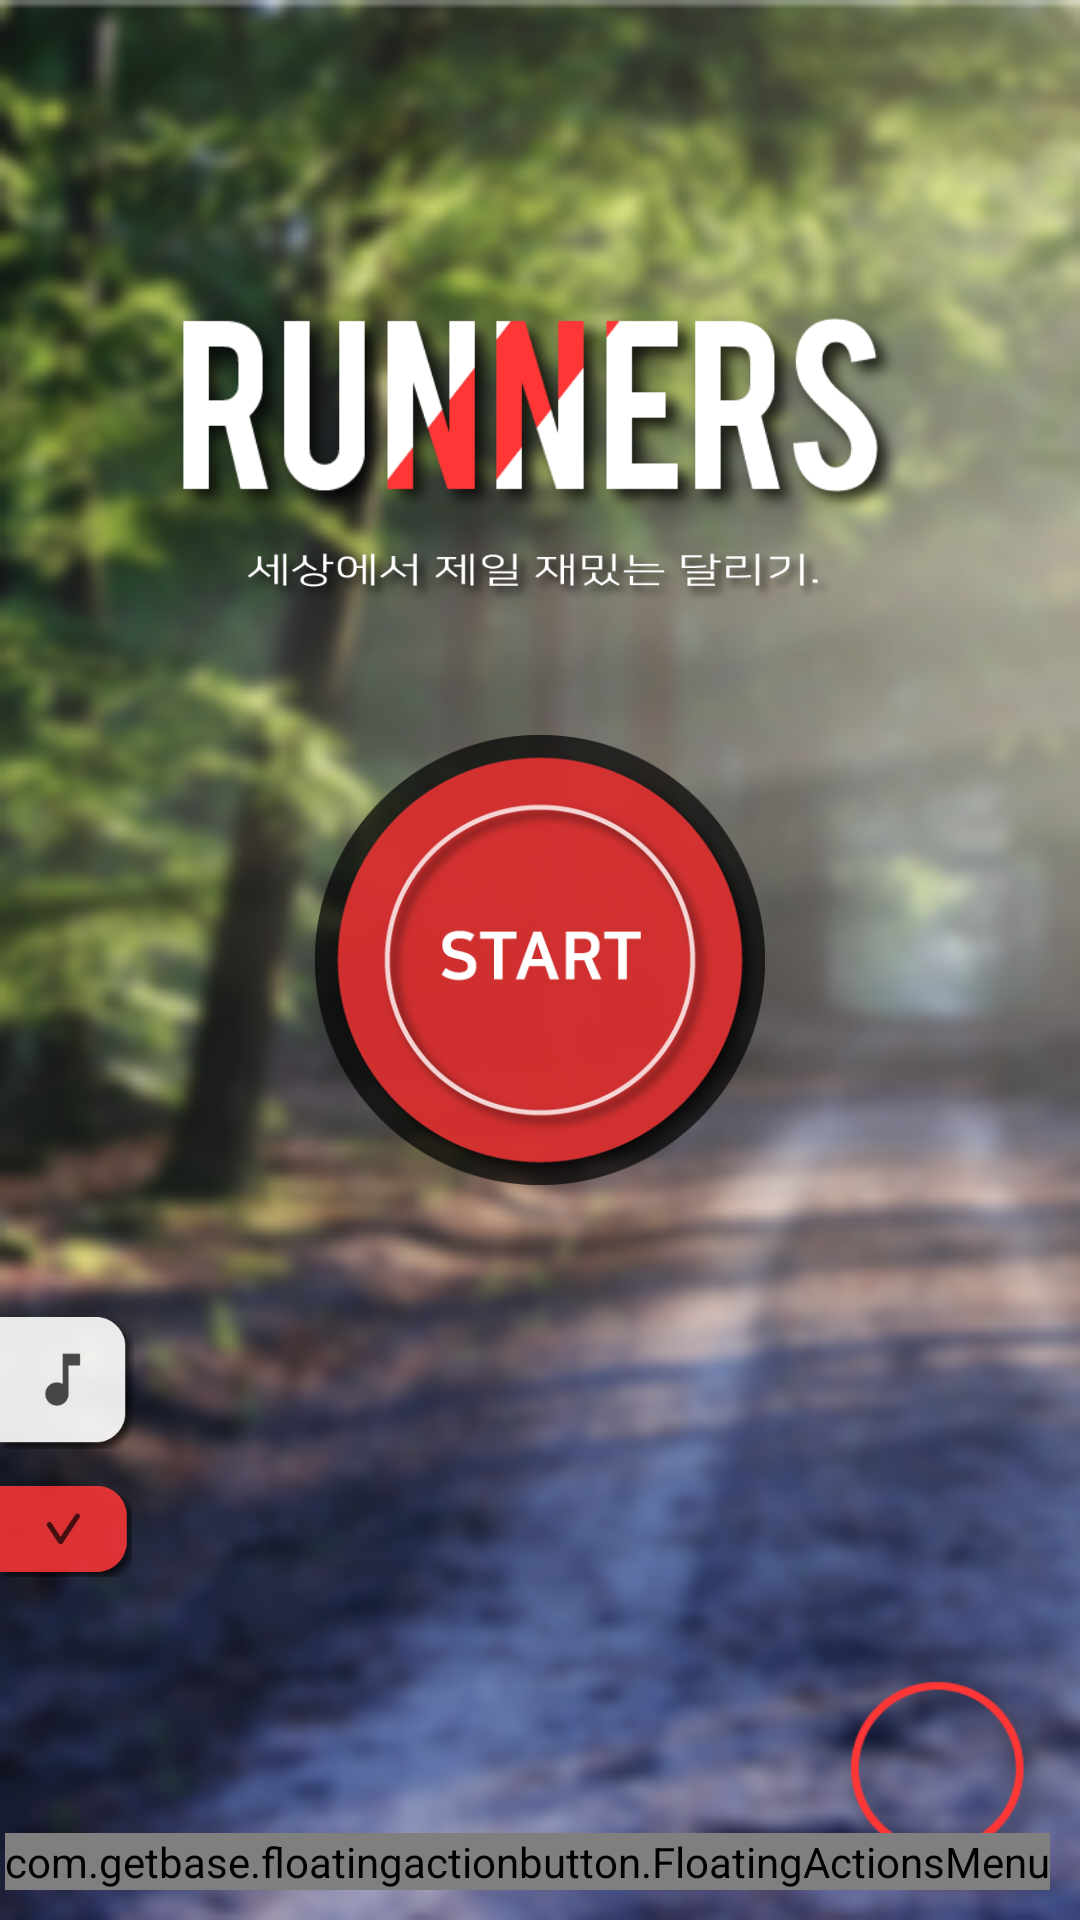

Screen size 1080×1920. Icon name, then its box in pixels as (x1,y1,x2,y2):
check tap: (0,1486,127,1581)
music tap: (0,1317,133,1447)
